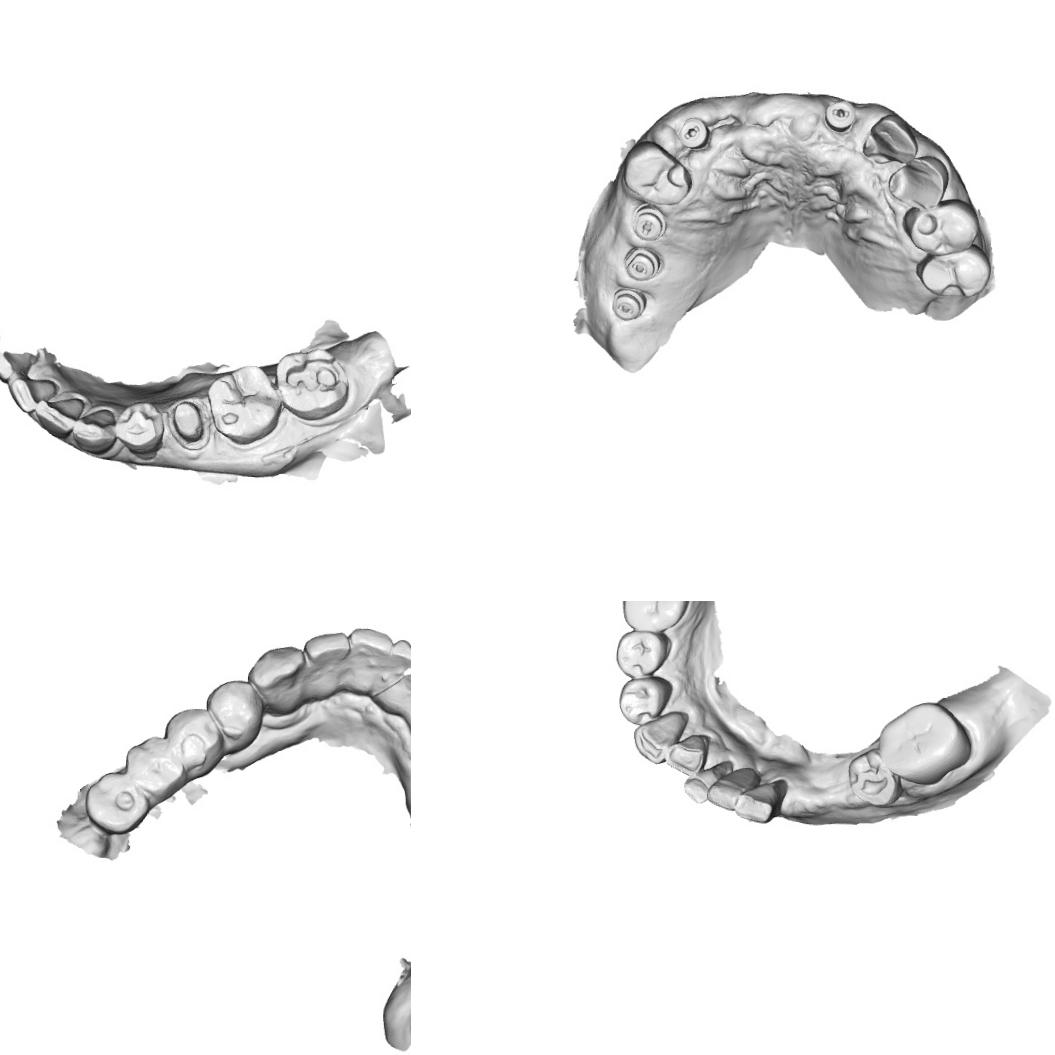canine: (246, 644, 308, 716), (630, 708, 690, 768), (862, 112, 920, 164), (68, 403, 120, 457)
crown: (169, 393, 210, 451)
implant_minus: (630, 202, 668, 242), (623, 244, 661, 282), (610, 285, 647, 322), (676, 116, 710, 151), (823, 98, 856, 134)
incisor: (704, 760, 759, 816), (730, 775, 790, 826), (30, 392, 87, 442), (302, 630, 354, 684), (344, 626, 395, 679), (4, 374, 63, 419), (681, 760, 727, 807), (666, 734, 708, 775), (0, 342, 40, 385), (385, 637, 411, 688)
inlay: (280, 350, 348, 398)
molar: (874, 698, 975, 788), (204, 361, 284, 448), (81, 769, 153, 836), (122, 733, 190, 802), (915, 240, 992, 298), (623, 601, 687, 627)
premolar: (202, 678, 265, 758), (160, 704, 225, 780), (622, 139, 694, 206), (902, 196, 980, 257), (845, 747, 903, 811), (888, 153, 950, 210), (110, 398, 168, 458), (614, 678, 671, 729), (614, 628, 668, 680)
